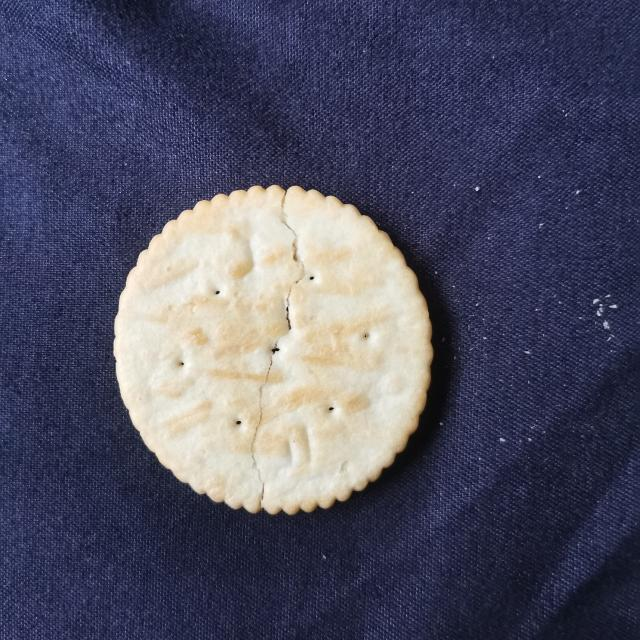Fracture: (242, 184, 314, 507)
